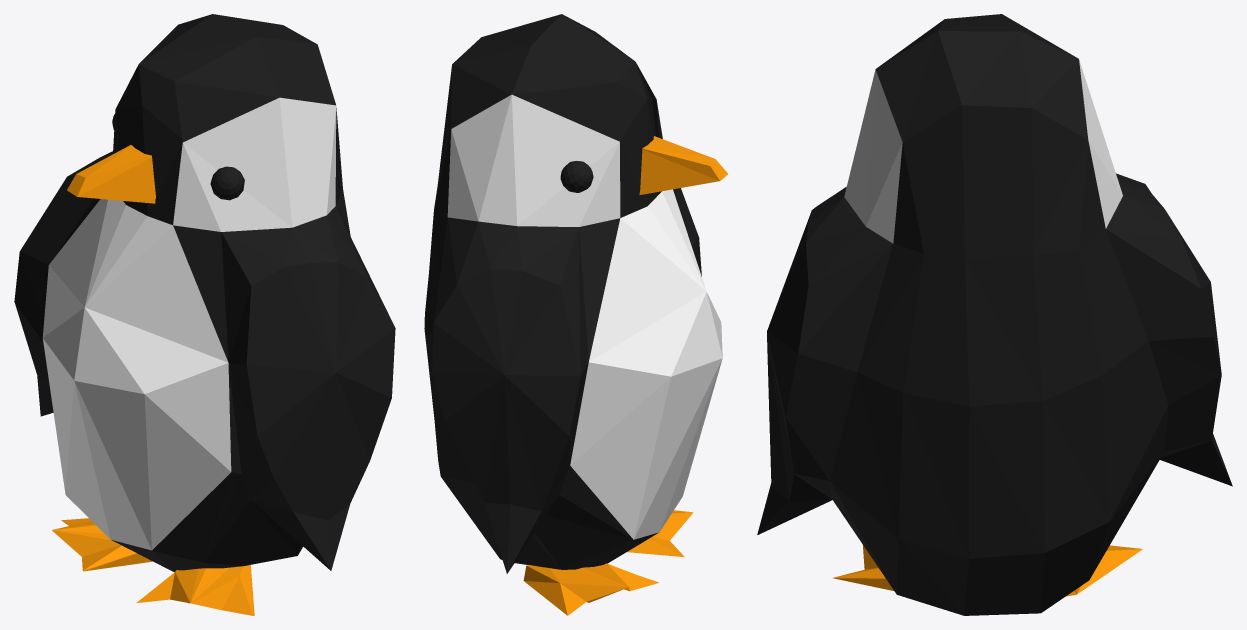
File: penguin.fbx
3 views of the same model, side by side, from view 1: azimuth 30°, elevation 25°; view 2: azimuth 150°, elevation 25°; view 3: azimuth 270°, elevation 25° (orthographic). The views are drawn at different scales.
Visible parts, largest first — view 1: mesh_2117380442, mesh_1971338956, mesh_1250110498, mesh_1104735607, mesh_1606345542; view 2: mesh_2117380442, mesh_1104735607, mesh_1250110498, mesh_1971338956, mesh_1898907030; view 3: mesh_2117380442, mesh_1104735607, mesh_1971338956.
Part boxes in pixels (box(x1,y1,x2,y2)): mesh_2117380442: box(14, 14, 395, 572); mesh_1971338956: box(136, 565, 254, 615); mesh_1250110498: box(67, 145, 155, 203); mesh_1104735607: box(52, 518, 152, 571); mesh_1606345542: box(210, 166, 244, 200); mesh_2117380442: box(424, 14, 722, 573); mesh_1104735607: box(523, 563, 658, 615); mesh_1250110498: box(639, 136, 727, 195); mesh_1971338956: box(627, 510, 693, 557); mesh_1898907030: box(560, 161, 593, 192); mesh_2117380442: box(757, 14, 1232, 615); mesh_1104735607: box(1066, 545, 1142, 596); mesh_1971338956: box(832, 545, 893, 590).
Bounding box in the file's own units: 36.78 × 67.59 × 49.97.
